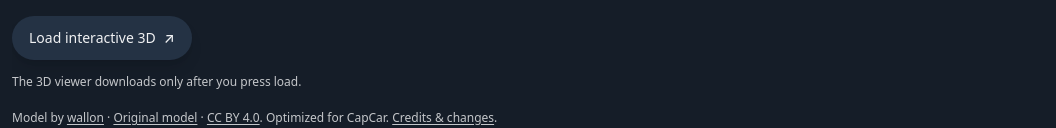
it: shared free car viewer › recovers after a failed download and retains creator credits
(page scrolled)
Click the button "Load interactive 3D ↗" at {"x": 102, "y": 38}, box x1=12 y1=16 x2=192 y2=60
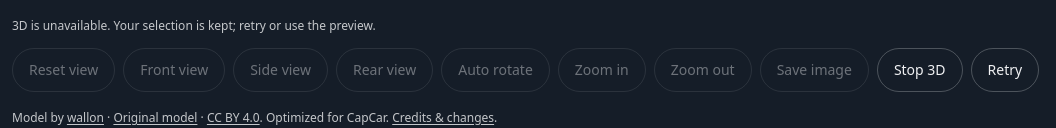
Expected: the message shows "3D is unavailable", x1=12 y1=17 x2=376 y2=34
Expected: the button "Front view" is disabled, x1=123 y1=48 x2=225 y2=92
Click the button "Retry" at {"x": 1005, "y": 70}, box x1=971 y1=48 x2=1039 y2=92
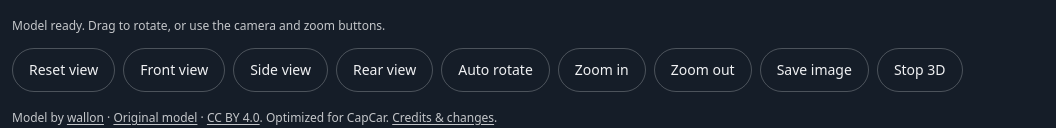
Expected: the message shows "Model ready", x1=12 y1=17 x2=385 y2=34
